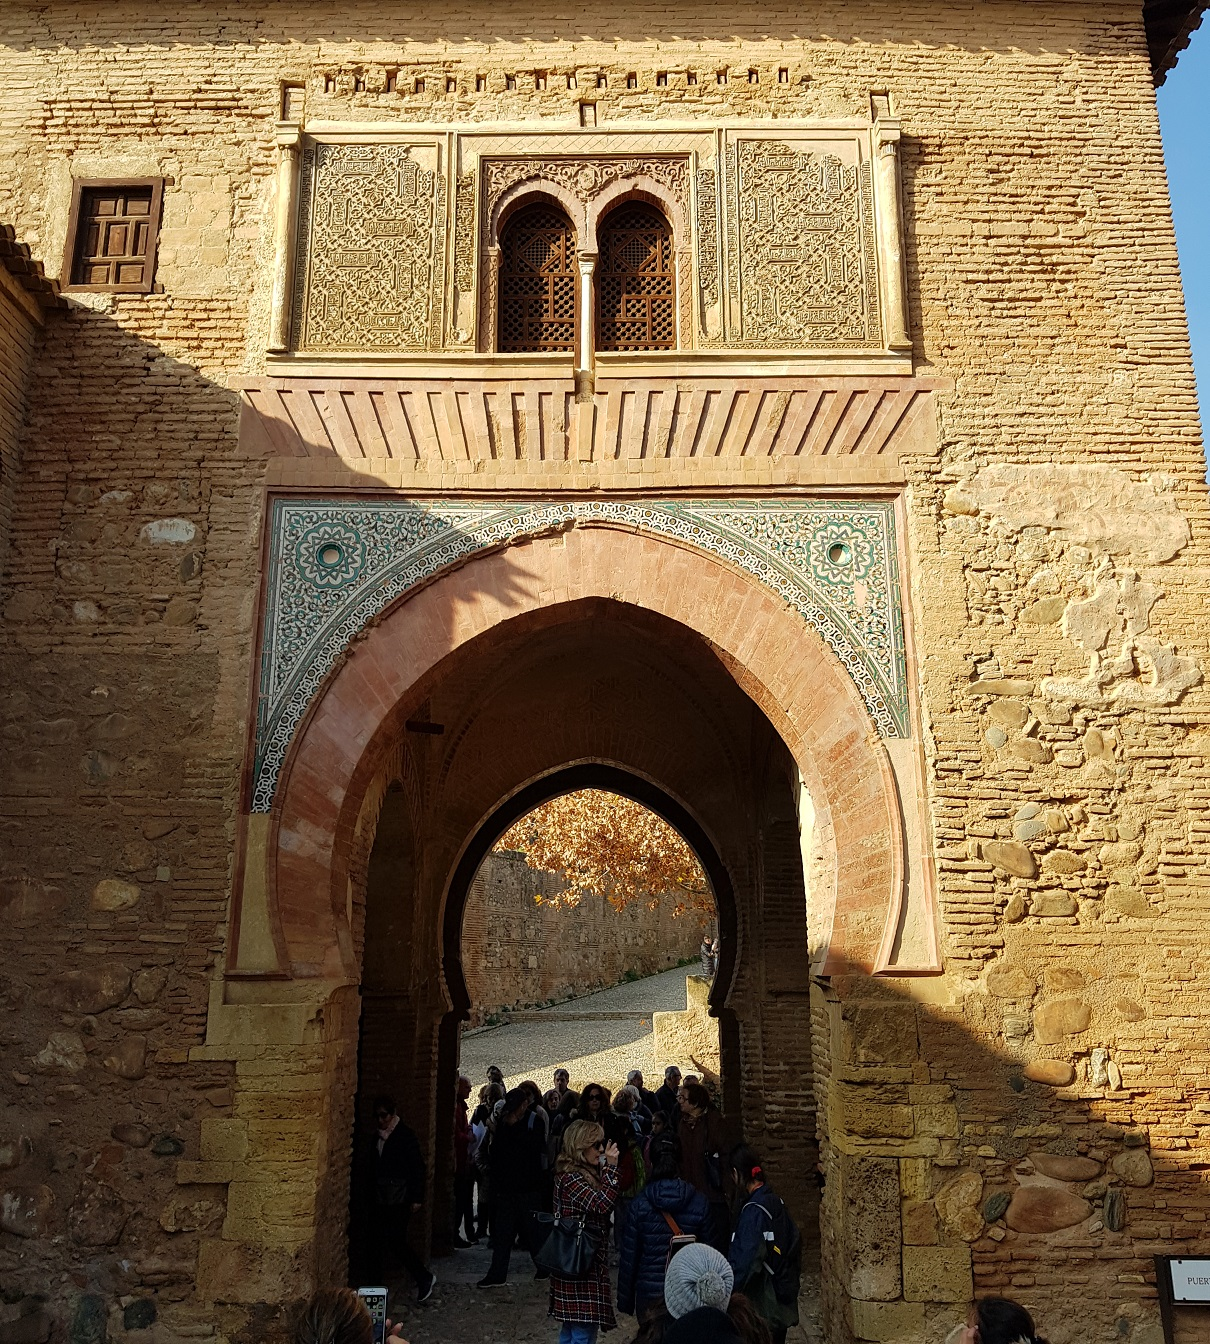arco-herradura: (294, 567, 850, 1030), (488, 187, 587, 274), (587, 182, 682, 273)
dintel-adovelado: (241, 379, 950, 478)
